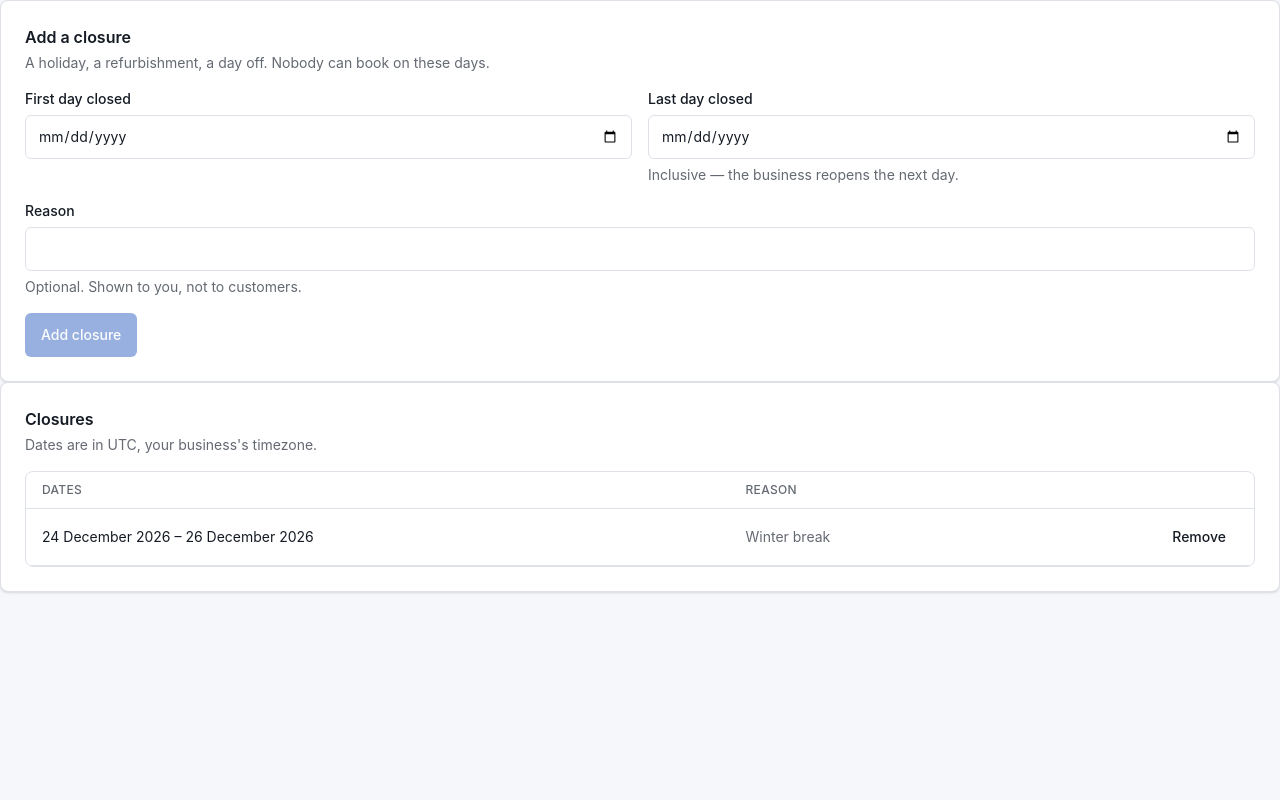
Test case: ClosuresScreen, when a write is refused › toasts the server sentence when a removal is refused
Click the button "Remove" at (1199, 537), box [1160,521,1238,553]
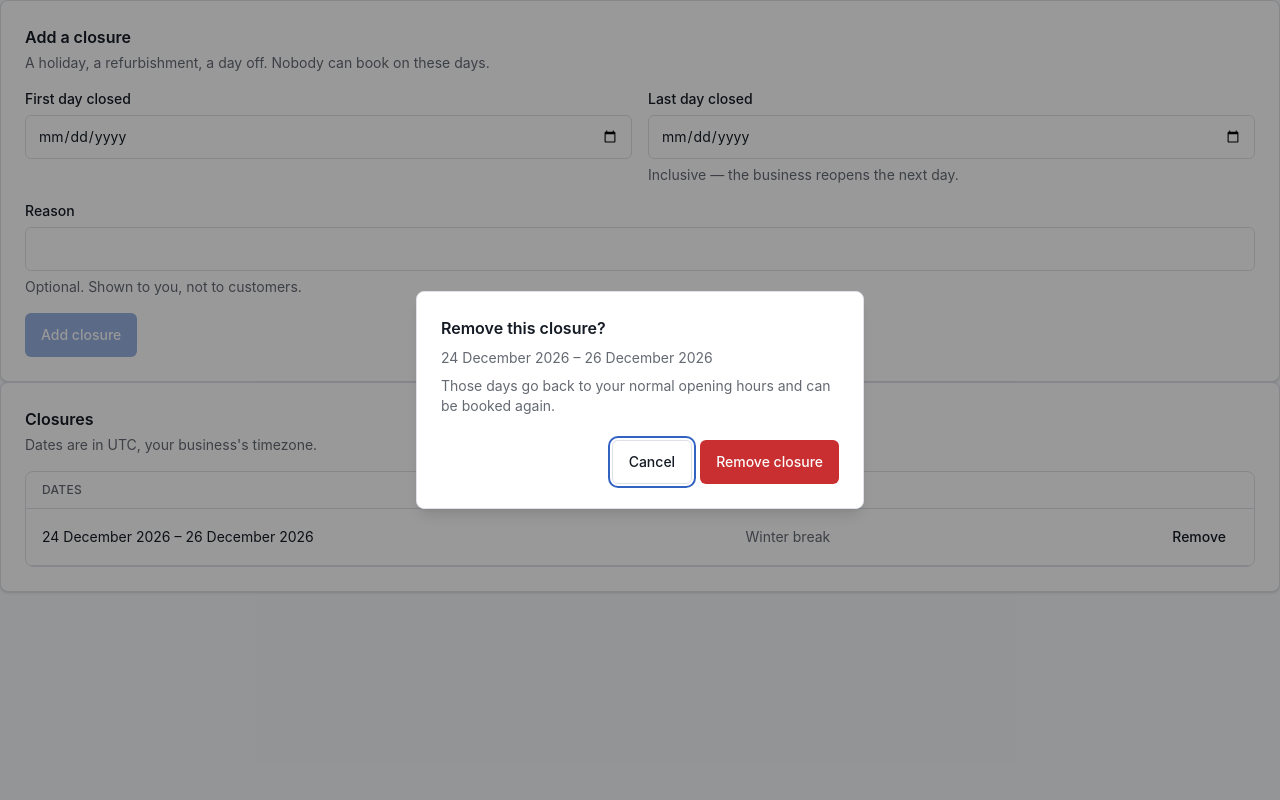
Click the button "Remove closure" at (770, 462), box [700,440,839,484]
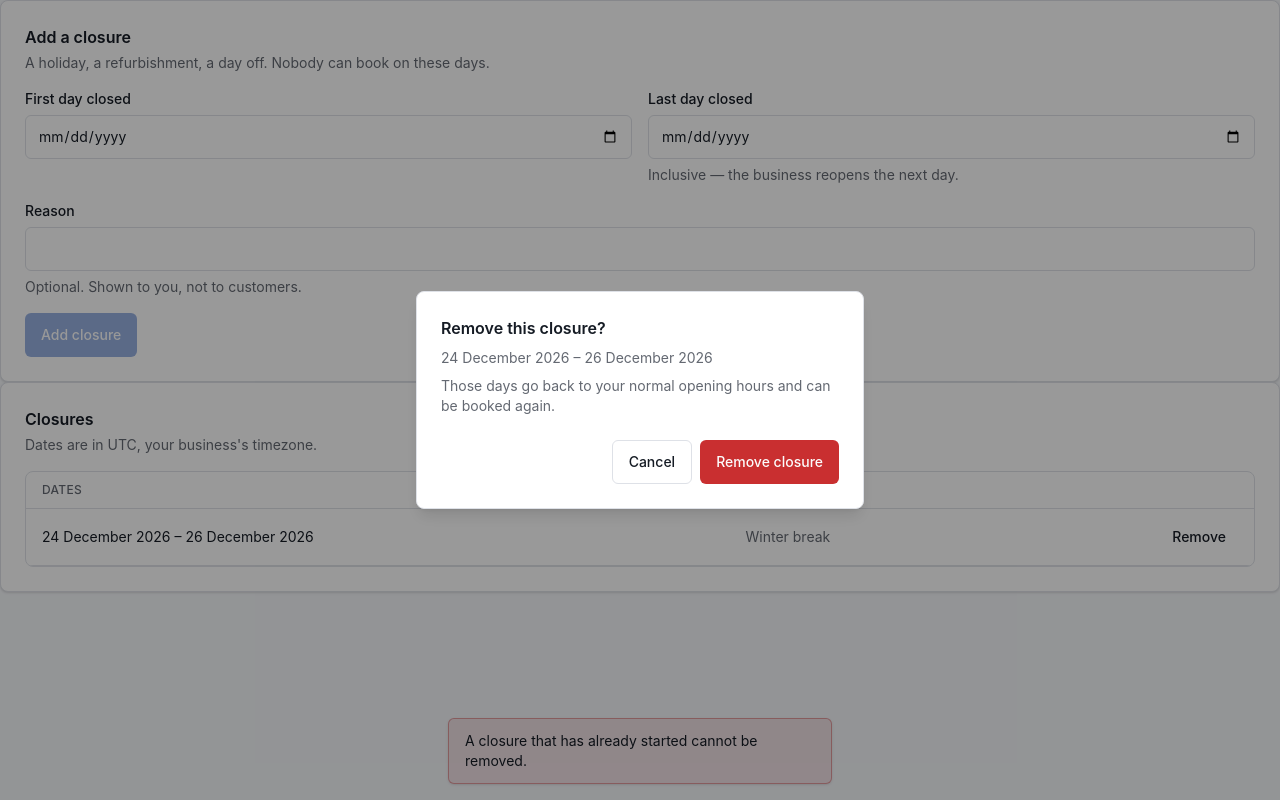
Expected: the text "A closure that has already started cannot be removed." is shown, [448,718,832,784]
